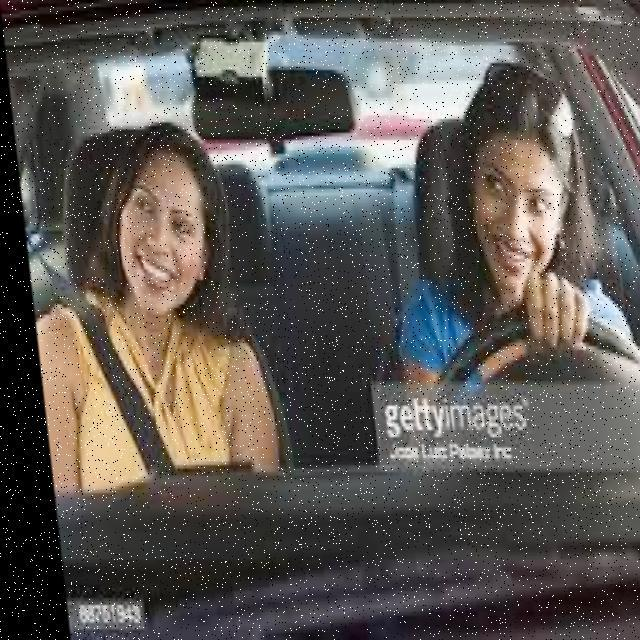seatbelt: (40, 290, 242, 485)
